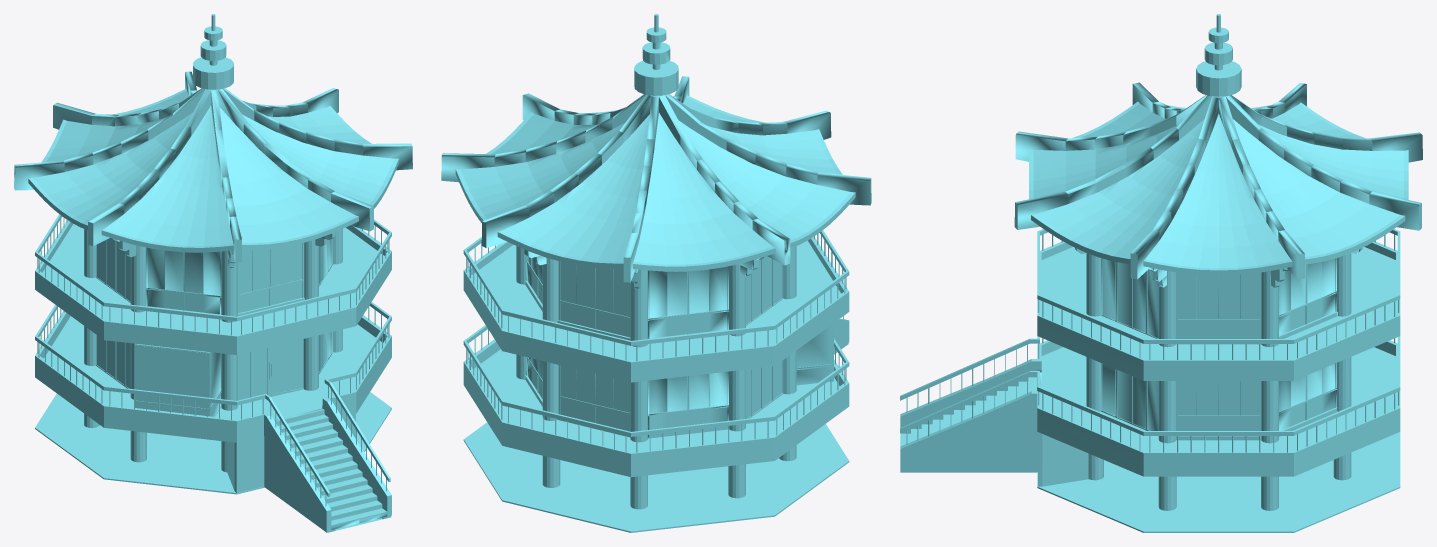
Rendered from park_palgakjeong.glb.
The picture shows the model from 3 angles, left to right: view 1: azimuth 30°, elevation 25°; view 2: azimuth 150°, elevation 25°; view 3: azimuth 270°, elevation 25°; orthographic projection. The views are drawn at different scales.
Visible parts, largest first — view 1: park_palgakjeong; view 2: park_palgakjeong; view 3: park_palgakjeong.
Boxes of the visible parts, box(x1,y1,x2,y2) form: park_palgakjeong: box(14, 14, 412, 532); park_palgakjeong: box(441, 14, 871, 532); park_palgakjeong: box(900, 14, 1422, 532).
Bounding box in the file's own units: 0.6305 × 0.7529 × 0.8076.
